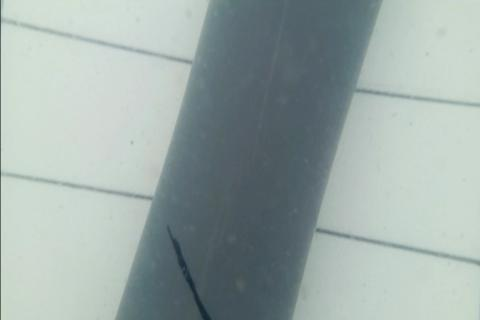keretakan: (163, 221, 211, 319)
